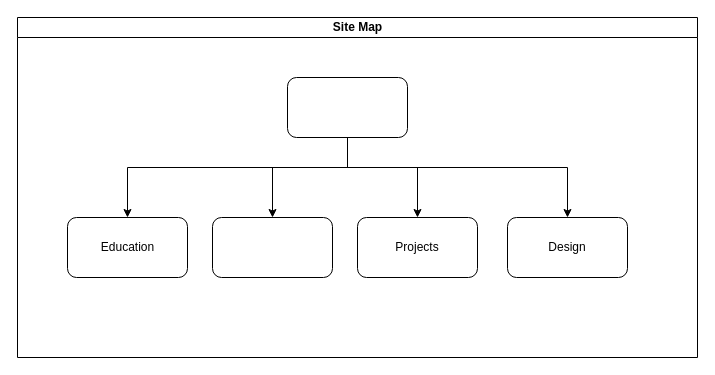
This 715x375 diagram has some shape labels left out. The shapes that lost their labels are listed below. From the top down, each one's box as (x1, y1, x2, y2) in pixels, then its label:
(286, 76, 408, 138): HOME
(212, 216, 332, 278): Job Experience
